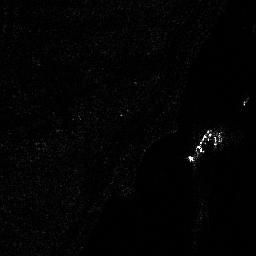ship: (189, 129, 212, 163)
